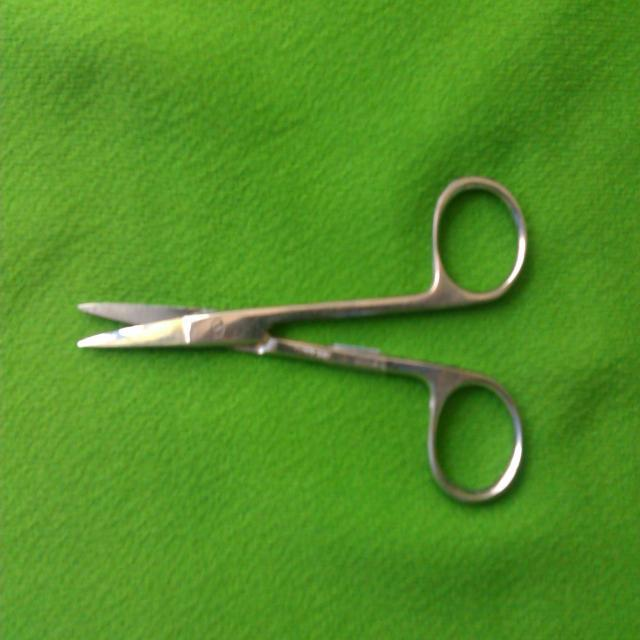Iris: (73, 170, 536, 518)
